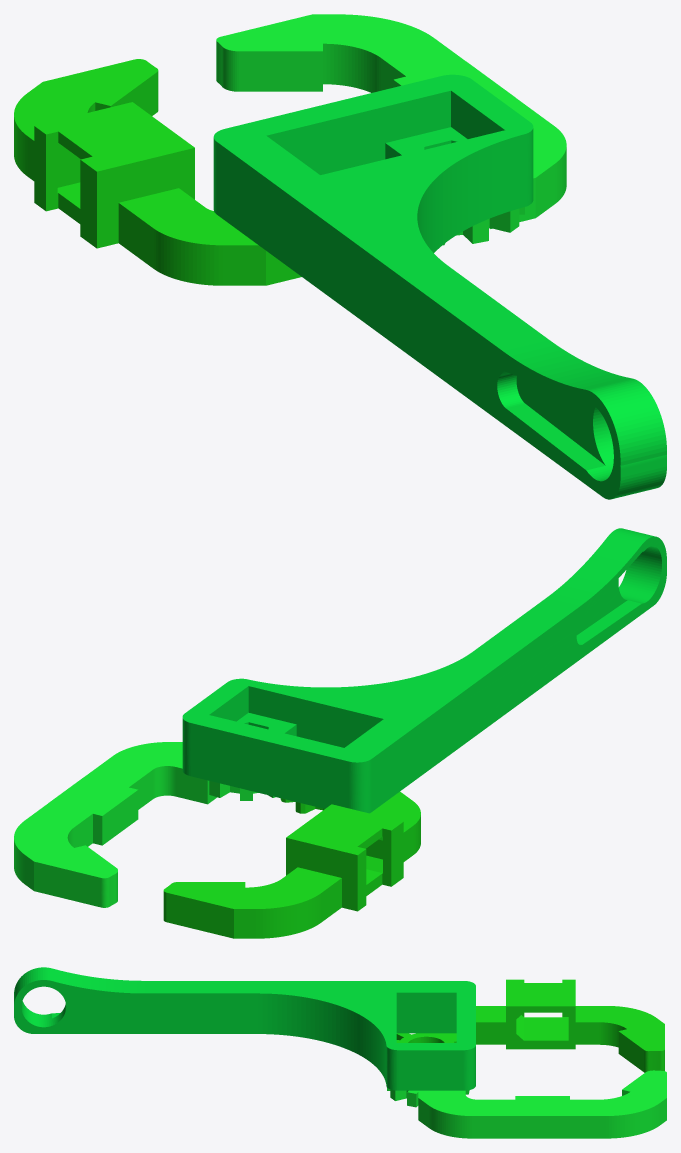
Rendered from braco_verde.dae.
3 renders of one model, top to bottom at view 1: azimuth 30°, elevation 25°; view 2: azimuth 150°, elevation 25°; view 3: azimuth 270°, elevation 25°, orthographic. The views are drawn at different scales.
Visible parts, largest first — view 1: Garra-Braco, Garra-Direita, Garra-Esquerda; view 2: Garra-Braco, Garra-Direita, Garra-Esquerda; view 3: Garra-Braco, Garra-Esquerda, Garra-Direita.
Part boxes in pixels (x1,y1,x2,y2): Garra-Braco: (213,74,666,499); Garra-Direita: (14,59,301,285); Garra-Esquerda: (216,14,566,245); Garra-Braco: (182,528,666,813); Garra-Direita: (163,791,420,938); Garra-Esquerda: (14,742,275,907); Garra-Braco: (14,967,475,1090); Garra-Esquerda: (387,1070,666,1138); Garra-Direita: (396,979,664,1072).
Bounding box in the file's own units: 55.26 × 131 × 17.17.
